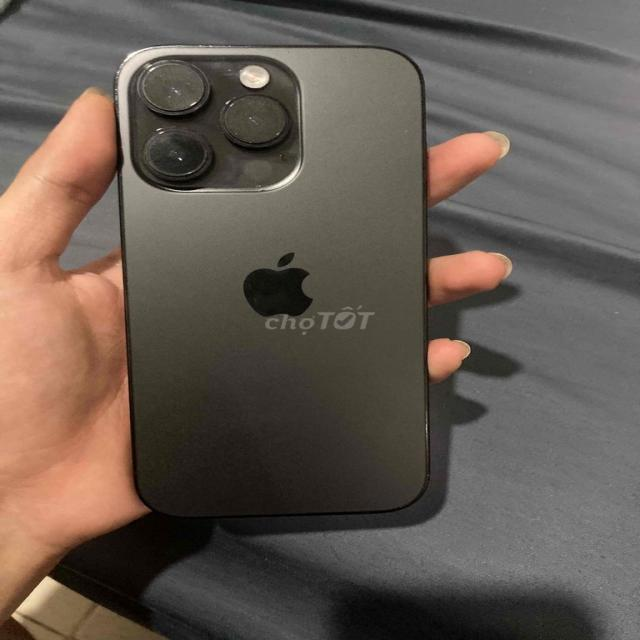gen_14: (104, 37, 448, 531)
